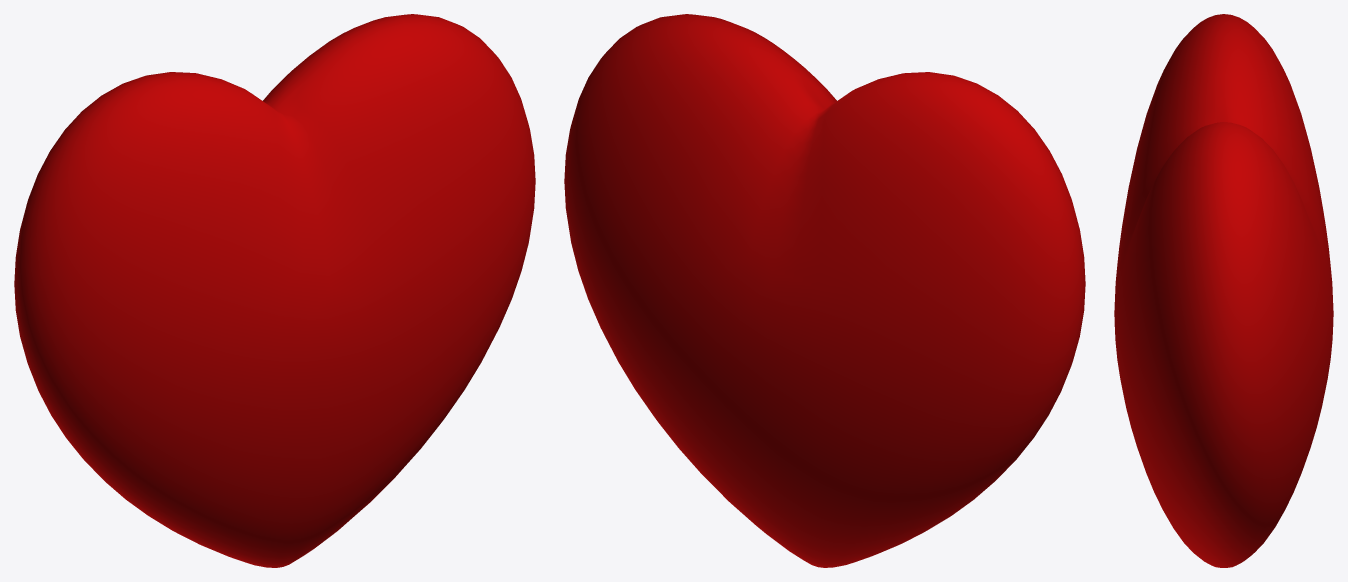
Rendered from heart.glb.
The picture shows the model from 3 angles, left to right: view 1: azimuth 30°, elevation 25°; view 2: azimuth 150°, elevation 25°; view 3: azimuth 270°, elevation 25°; orthographic projection. The views are drawn at different scales.
Parts seen in each view (by area): view 1: heart; view 2: heart; view 3: heart.
Part boxes in pixels (x1,y1,x2,y2): heart: (14,14,535,567); heart: (564,14,1085,567); heart: (1114,14,1333,567).
Size of the model in its own units: 1.99 by 1.93 by 0.7943.
